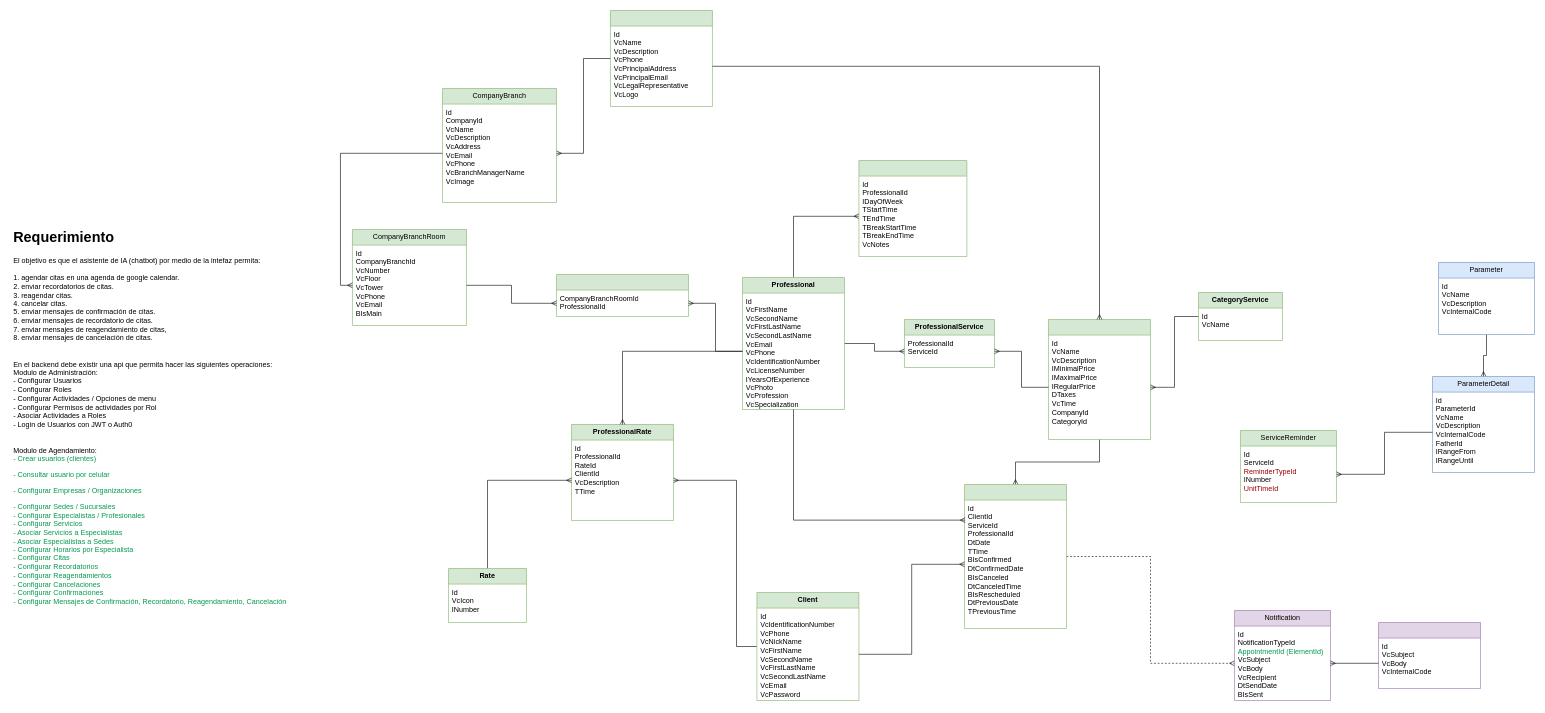
The diagram is 1545 pixels wide and 713 high, and some of its shapes have lost their labels. The box of each missing label's shape, as (x1, y1, x2, y2) in pixels:
Appointment: (964, 484, 1066, 628)
Company: (610, 10, 712, 106)
CompanyBranchRoomProfessional: (556, 274, 688, 316)
NotificationType: (1378, 622, 1480, 688)
ProfessionalBussinessHour: (858, 160, 967, 256)
Service: (1048, 319, 1150, 440)
